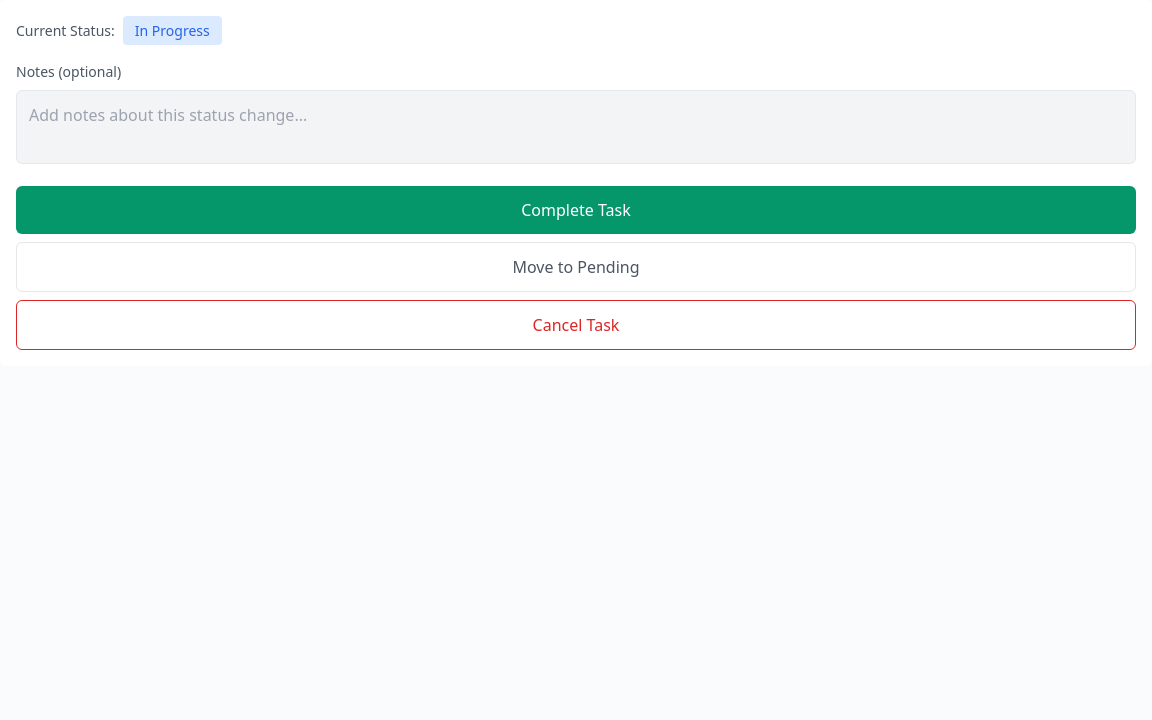
Test: TaskStatusUpdater - Completion Workflow › allows canceling completion
Note: Open confirmation
Click the button with test id "status-button-completed": (576,210) [16, 186, 1136, 234]
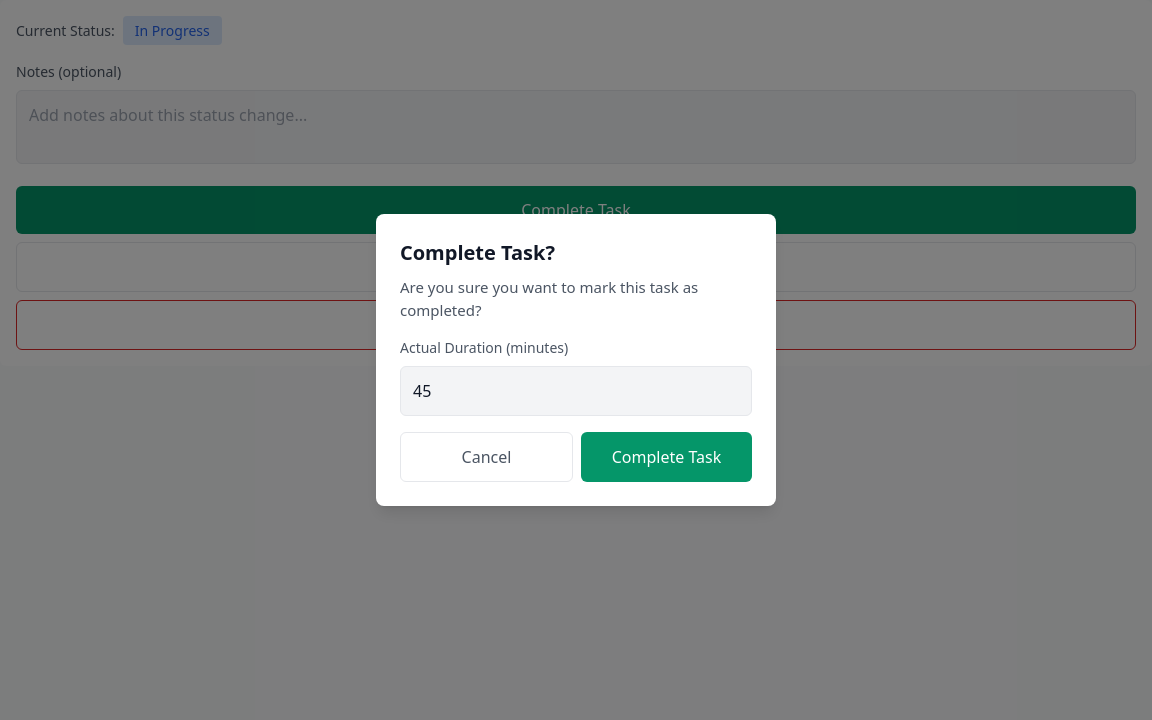
Now the dialog is shown
Click the button "Cancel": (486,457) [400, 432, 573, 482]
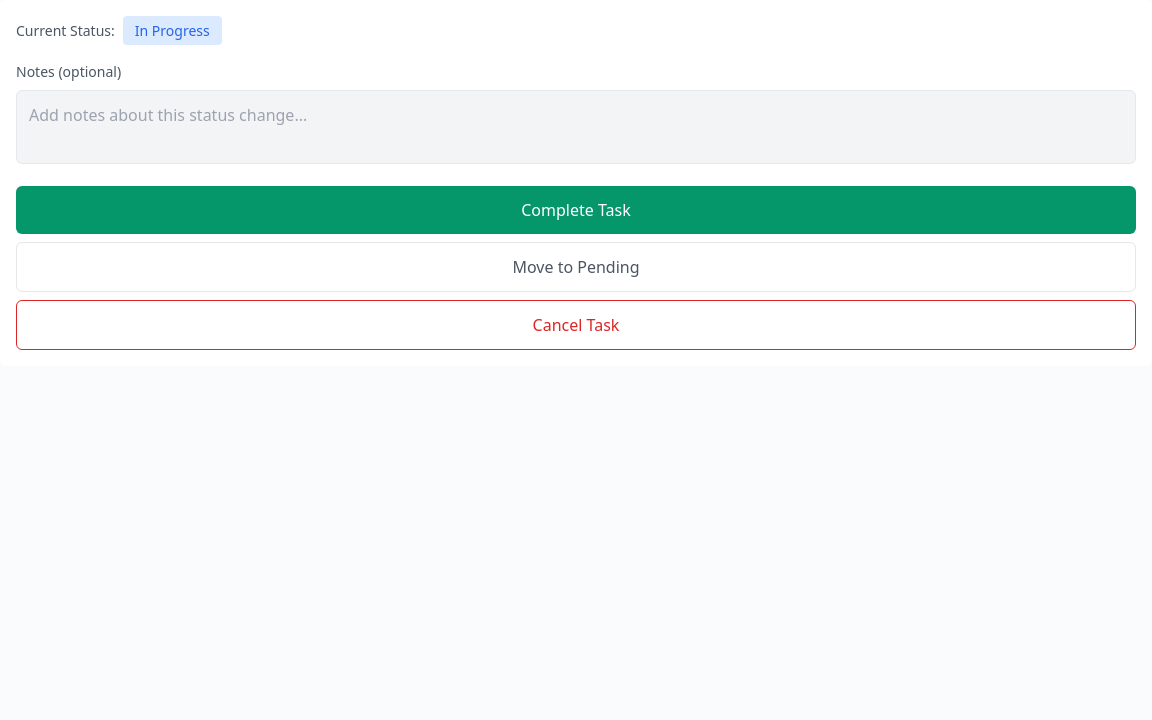
Now the dialog is gone
